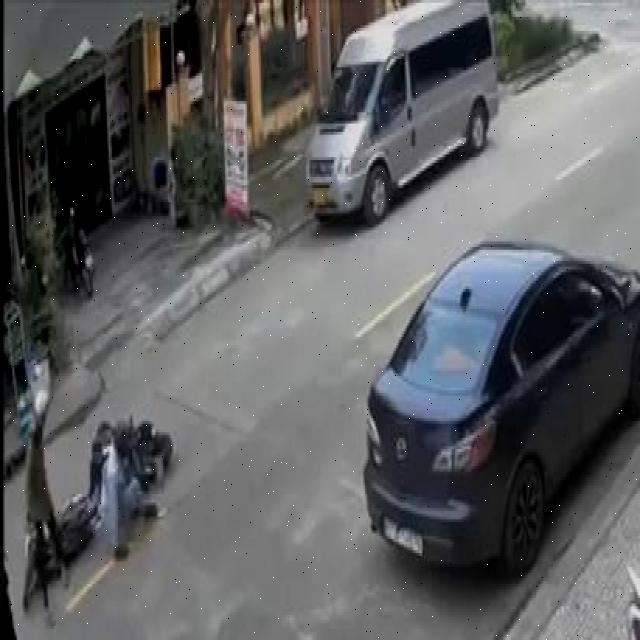accident: (16, 368, 178, 626)
